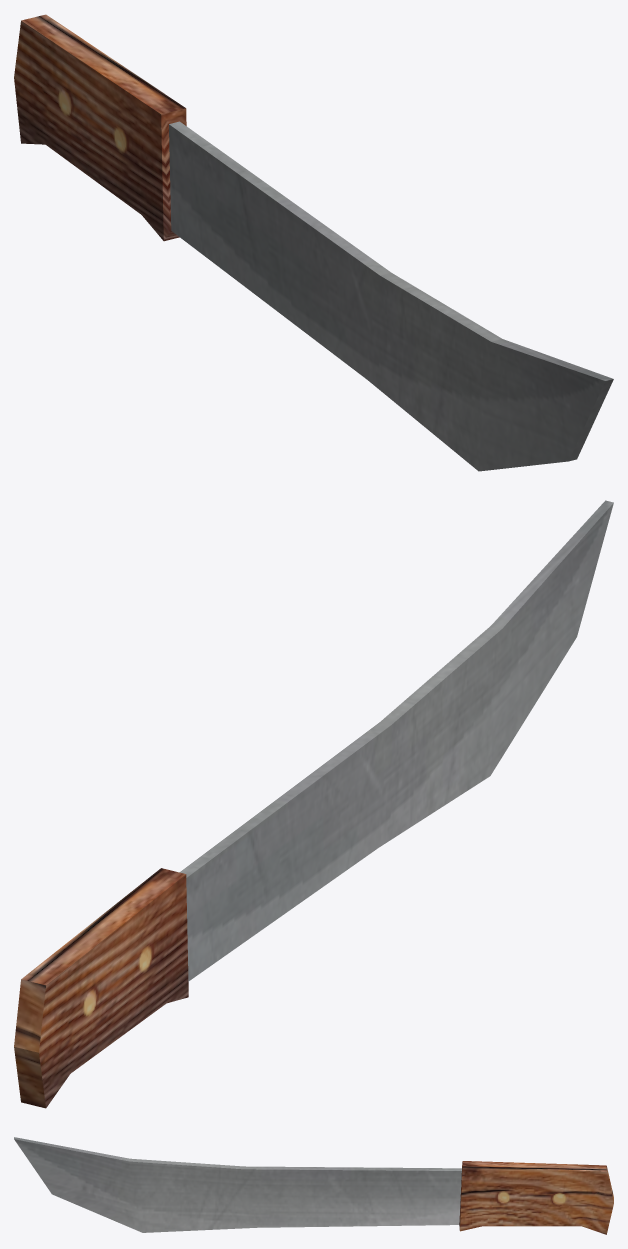
Rendered from MacheteV0.1.fbx.
3 views of the same model, one above another, from view 1: azimuth 30°, elevation 25°; view 2: azimuth 150°, elevation 25°; view 3: azimuth 270°, elevation 25° (orthographic). The views are drawn at different scales.
Visible parts, largest first — view 1: machete; view 2: machete; view 3: machete.
Part boxes in pixels (bbox=[...]): machete: bbox=[14, 14, 613, 471]; machete: bbox=[14, 500, 613, 1108]; machete: bbox=[14, 1137, 613, 1234].
Size of the model in its own units: 0.0646 by 0.4496 by 2.61.
1 material, 1 textured.
